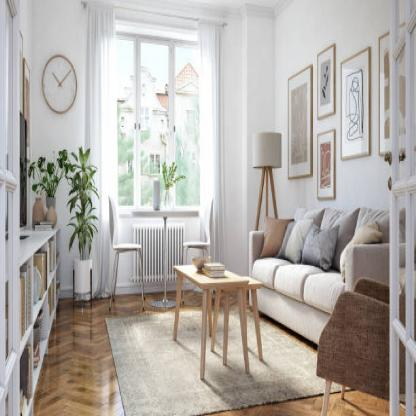Window: (115, 30, 201, 203)
Wooden floor: (32, 296, 161, 416)
